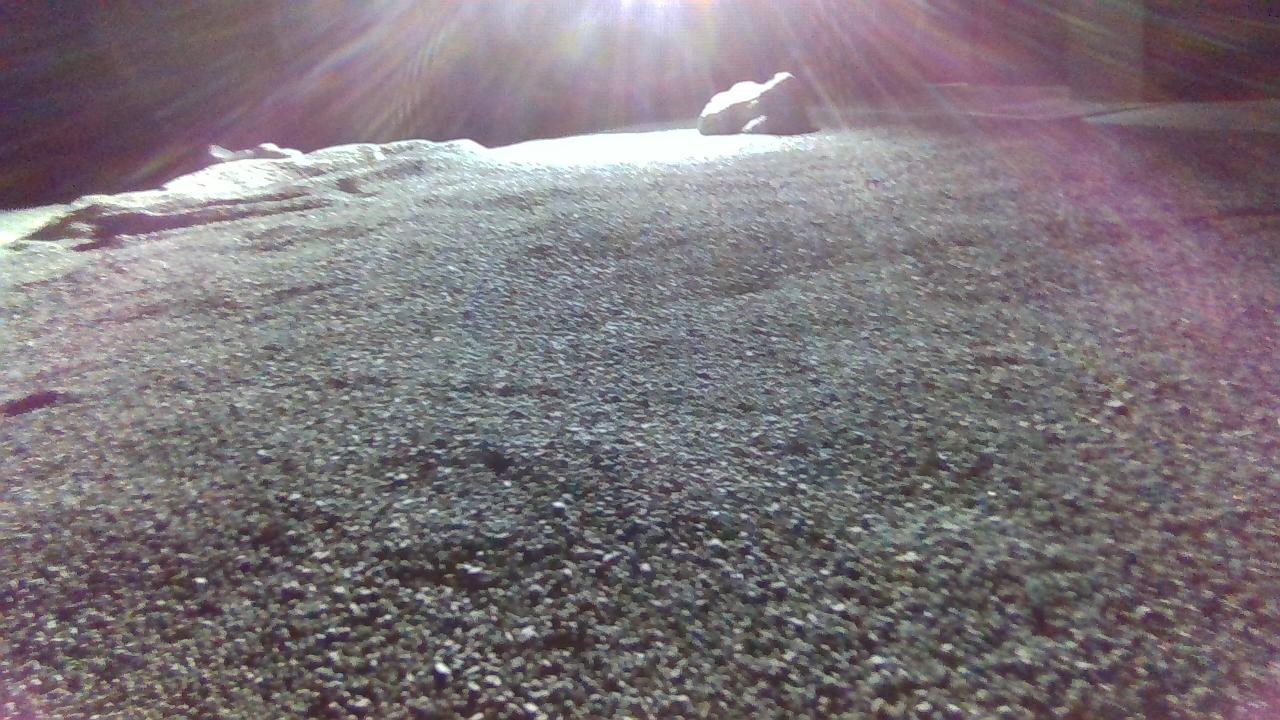rock: (699, 70, 813, 134)
